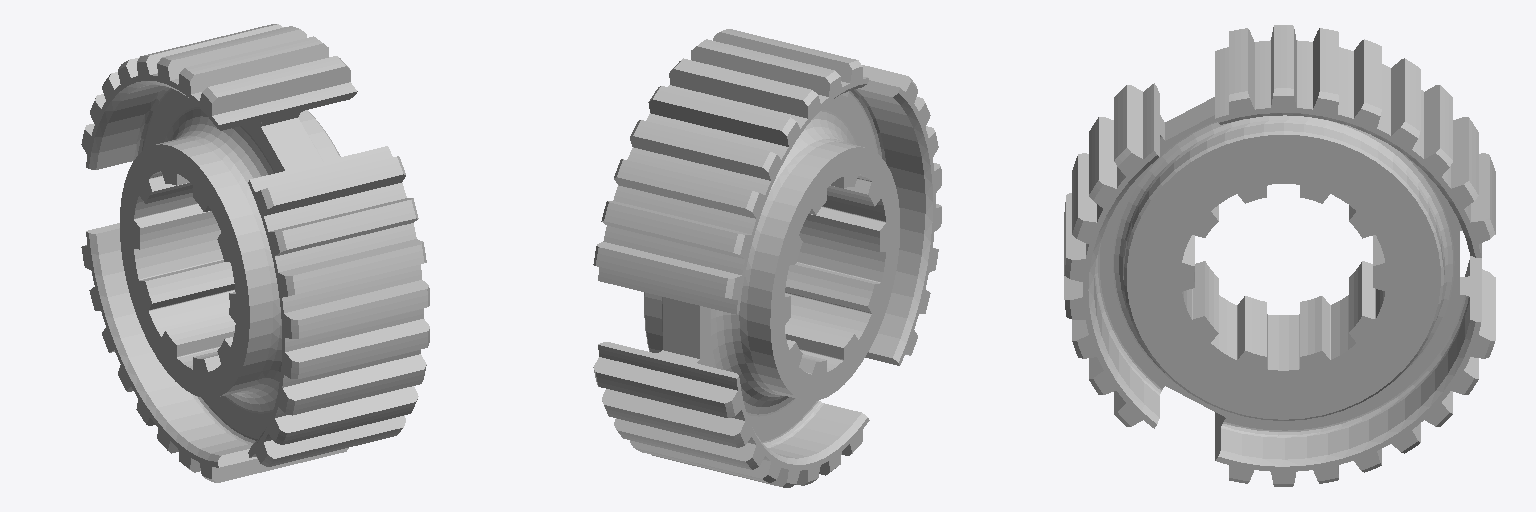
Rendered from 74. Ступица муфты переключения третьей и четвертой передач.obj.
The picture shows the model from 3 angles: view 1: azimuth 30°, elevation 25°; view 2: azimuth 150°, elevation 25°; view 3: azimuth 270°, elevation 25°; orthographic projection.
Parts seen in each view (by area): view 1: Твердое тело1; view 2: Твердое тело1; view 3: Твердое тело1.
Boxes of the visible parts, x1=… form: Твердое тело1: x1=81, y1=24, x2=429, y2=482; Твердое тело1: x1=593, y1=29, x2=941, y2=487; Твердое тело1: x1=1064, y1=25, x2=1495, y2=486.
Bounding box in the file's own units: 29.5 × 80.99 × 79.46.